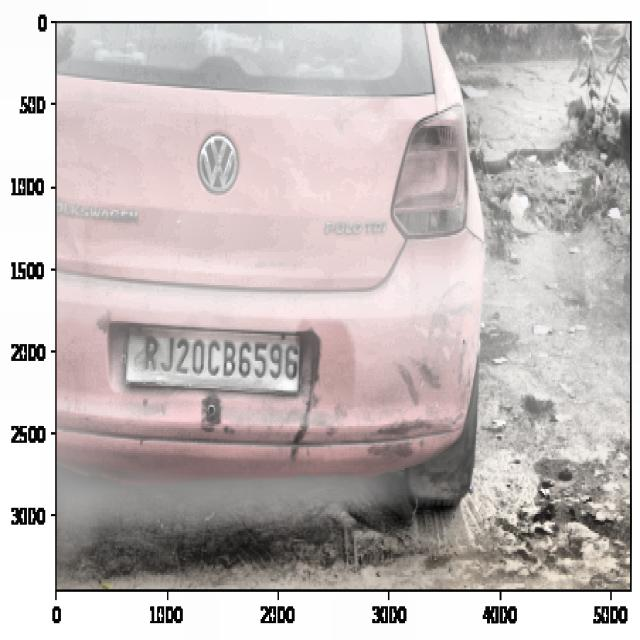license_plate: (140, 333, 302, 393)
